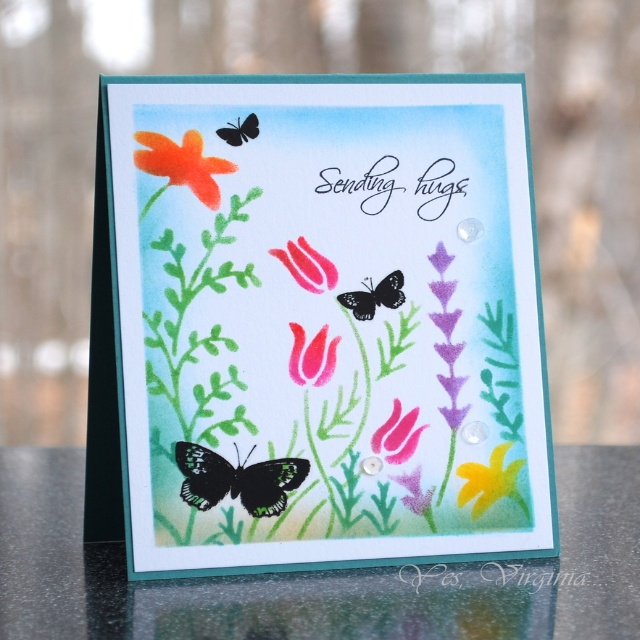Butterfly: (169, 442, 308, 516), (339, 266, 419, 323), (215, 113, 265, 150)
